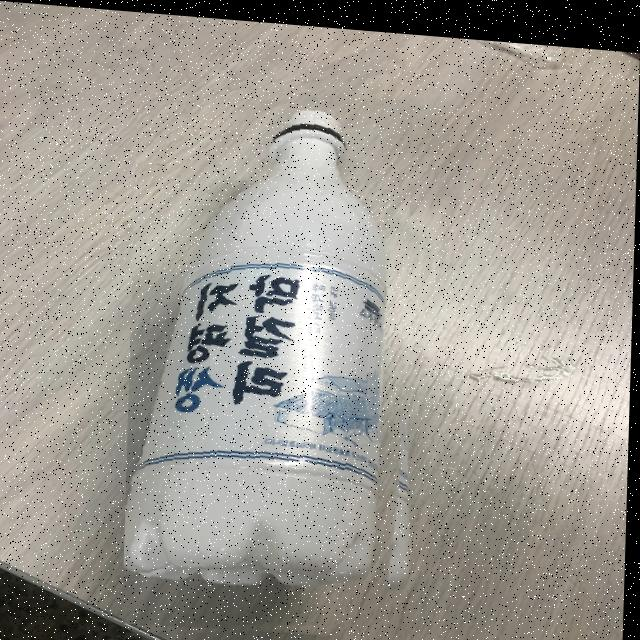litter: (126, 79, 443, 640)
